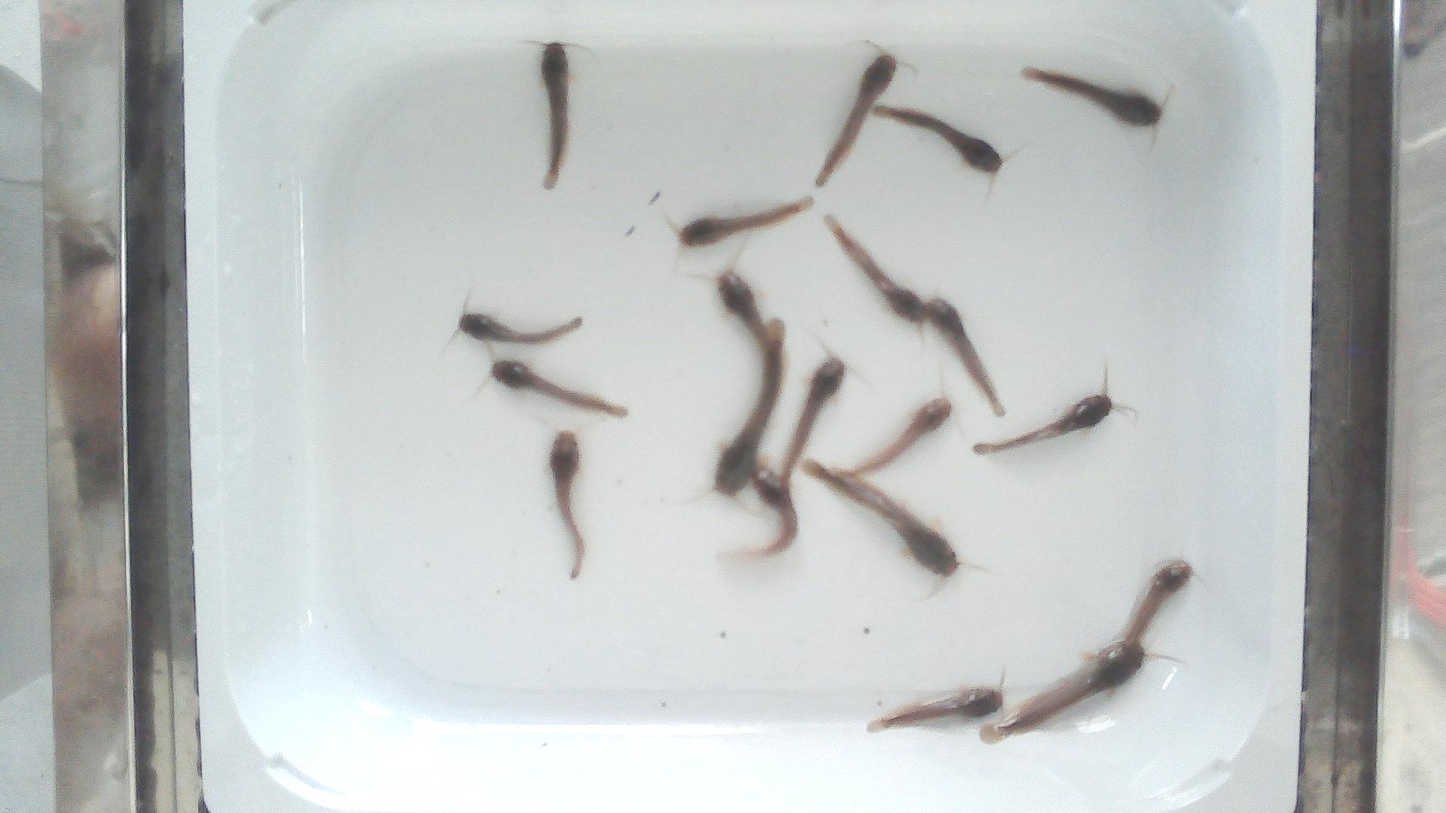lele: (979, 641, 1149, 747), (813, 463, 959, 577), (713, 315, 788, 494), (823, 214, 930, 324), (974, 373, 1113, 453), (816, 51, 896, 185), (925, 298, 1006, 420), (835, 397, 951, 477), (874, 106, 1002, 173), (781, 355, 845, 482), (1023, 68, 1161, 126), (720, 462, 798, 559), (492, 361, 627, 416), (679, 197, 813, 245), (868, 687, 1002, 731), (717, 269, 770, 380), (1122, 562, 1190, 643), (549, 432, 584, 578), (540, 43, 569, 189), (459, 313, 582, 344)
